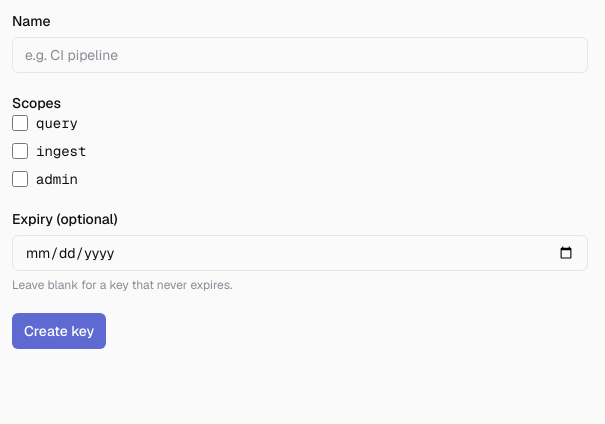
CreateKeyDialog › surfaces a create error and keeps the form (no reveal)
In the field labelled "Name": (300, 55) left=12, top=37, right=588, bottom=73, type "Bad"
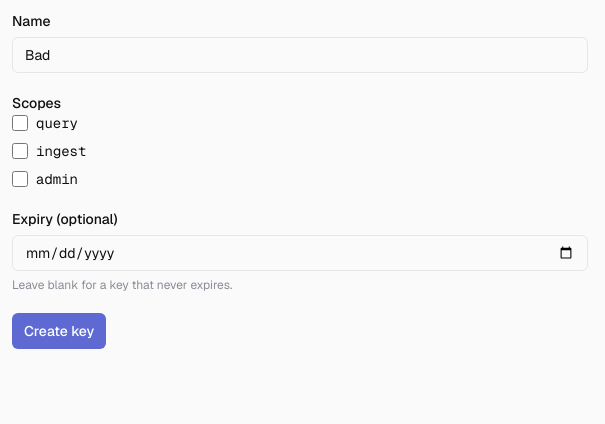
Click the checkbox labelled "query": (20, 123) left=12, top=115, right=28, bottom=131
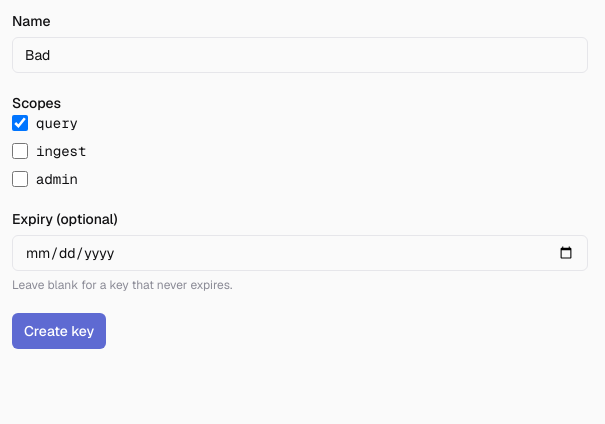
Click the button "Create key": (59, 331) left=12, top=313, right=106, bottom=349
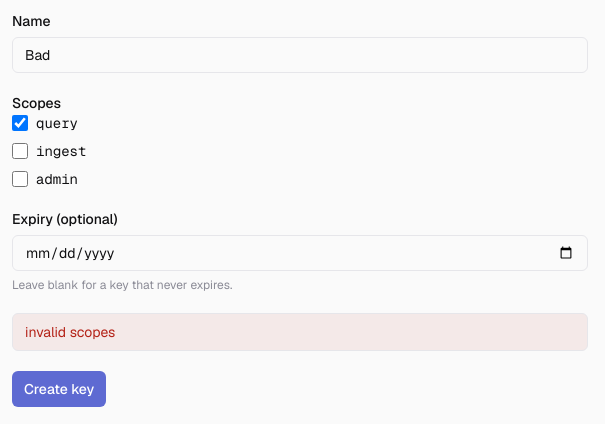
Expected: the button "Create key" is shown, left=12, top=371, right=106, bottom=407
Expected: the text "invalid scopes" is shown, left=12, top=313, right=588, bottom=351
